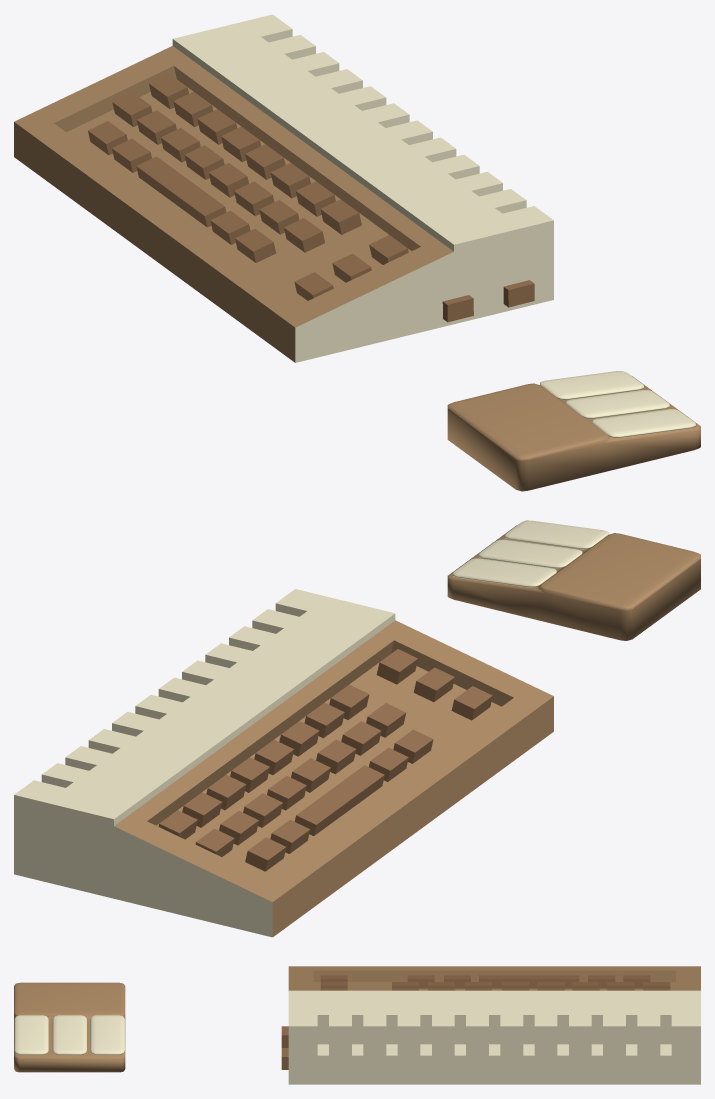
File: Keyboard&Mouse_tier3.fbx
3 renders of one model, top to bottom at view 1: azimuth 30°, elevation 25°; view 2: azimuth 150°, elevation 25°; view 3: azimuth 270°, elevation 25°, orthographic. The views are drawn at different scales.
Parts seen in each view (by area): view 1: Cube, Cube.023, Cube.024; view 2: Cube, Cube.023, Cube.024; view 3: Cube, Cube.024, Cube.023.
Boxes of the visible parts, <box> form: Cube: <box>14,14,553,362</box>; Cube.023: <box>88,74,534,322</box>; Cube.024: <box>447,371,700,491</box>; Cube: <box>14,589,553,937</box>; Cube.023: <box>158,649,492,871</box>; Cube.024: <box>447,520,700,640</box>; Cube: <box>288,966,700,1084</box>; Cube.024: <box>14,982,125,1072</box>; Cube.023: <box>281,975,670,1069</box>.
Bounding box in the file's own units: 0.3689 × 0.1127 × 1.16.
